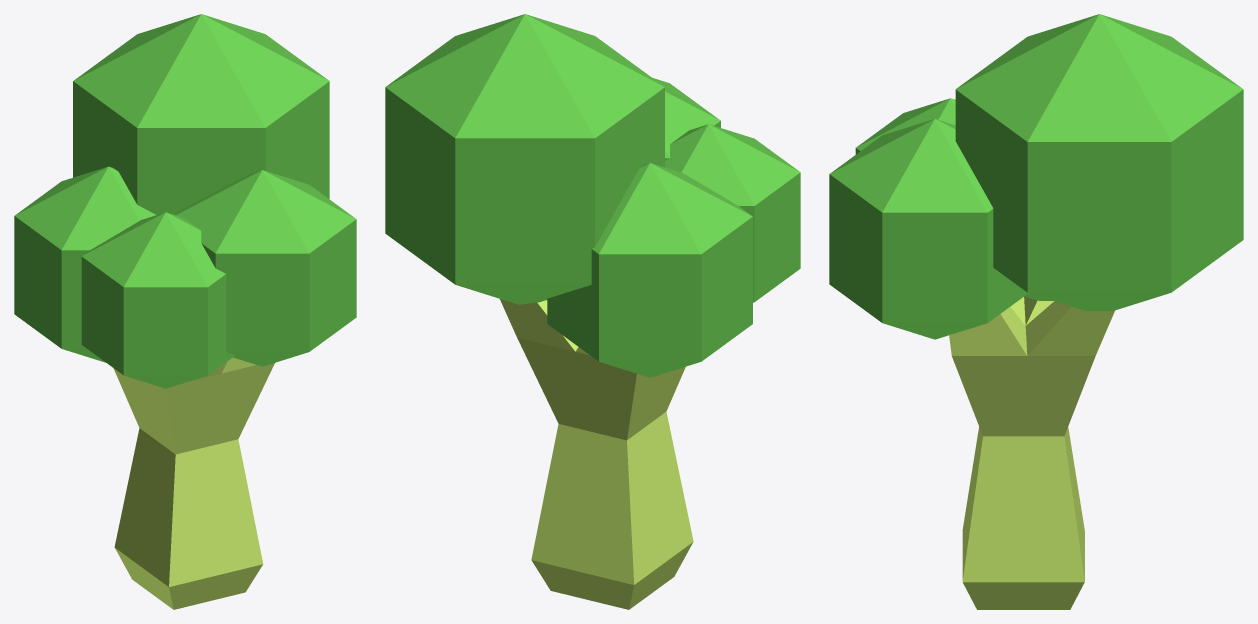
File: brocoli.fbx
3 views of the same model, side by side, from view 1: azimuth 30°, elevation 25°; view 2: azimuth 150°, elevation 25°; view 3: azimuth 270°, elevation 25° (orthographic). The views are drawn at different scales.
Parts seen in each view (by area): view 1: Cube; view 2: Cube; view 3: Cube.
Boxes of the visible parts, box(x1,y1,x2,y2) form: Cube: box(14, 14, 356, 609); Cube: box(385, 14, 800, 609); Cube: box(829, 14, 1243, 609).
Bounding box in the file's own units: 58.87 × 111 × 69.51.
